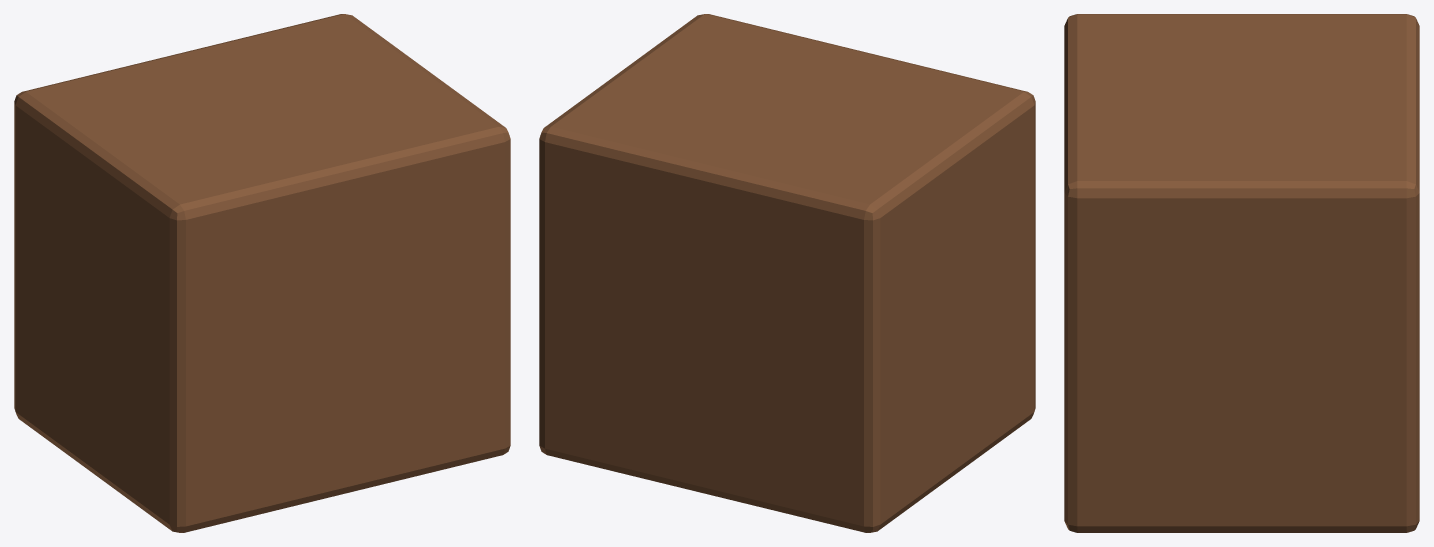
Rendered from SM_Interact_CoverCrate.fbx.
3 renders of one model, left to right at view 1: azimuth 30°, elevation 25°; view 2: azimuth 150°, elevation 25°; view 3: azimuth 270°, elevation 25°, orthographic. The views are drawn at different scales.
Visible parts, largest first — view 1: SM_Interact_CoverCrate; view 2: SM_Interact_CoverCrate; view 3: SM_Interact_CoverCrate.
Part boxes in pixels (x1,y1,x2,y2): SM_Interact_CoverCrate: (14,14,510,532); SM_Interact_CoverCrate: (539,14,1035,532); SM_Interact_CoverCrate: (1064,14,1419,532).
Size of the model in its own units: 1.3 by 1.1 by 1.2.
